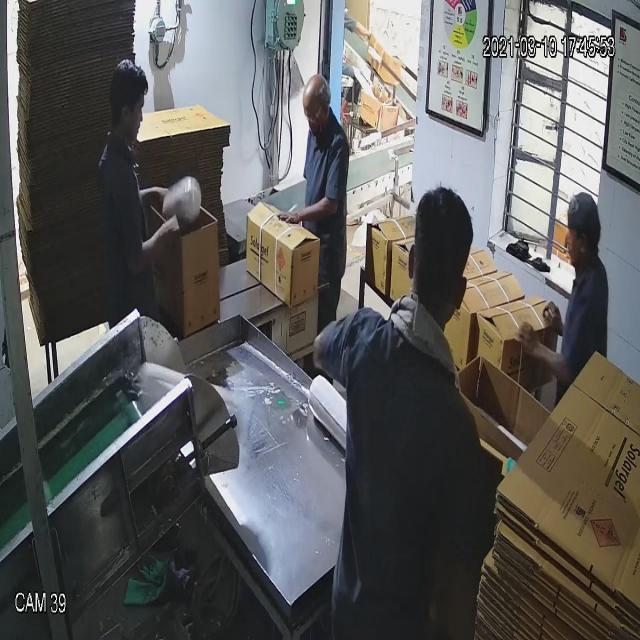No_Gloves: (64, 55, 544, 350)
